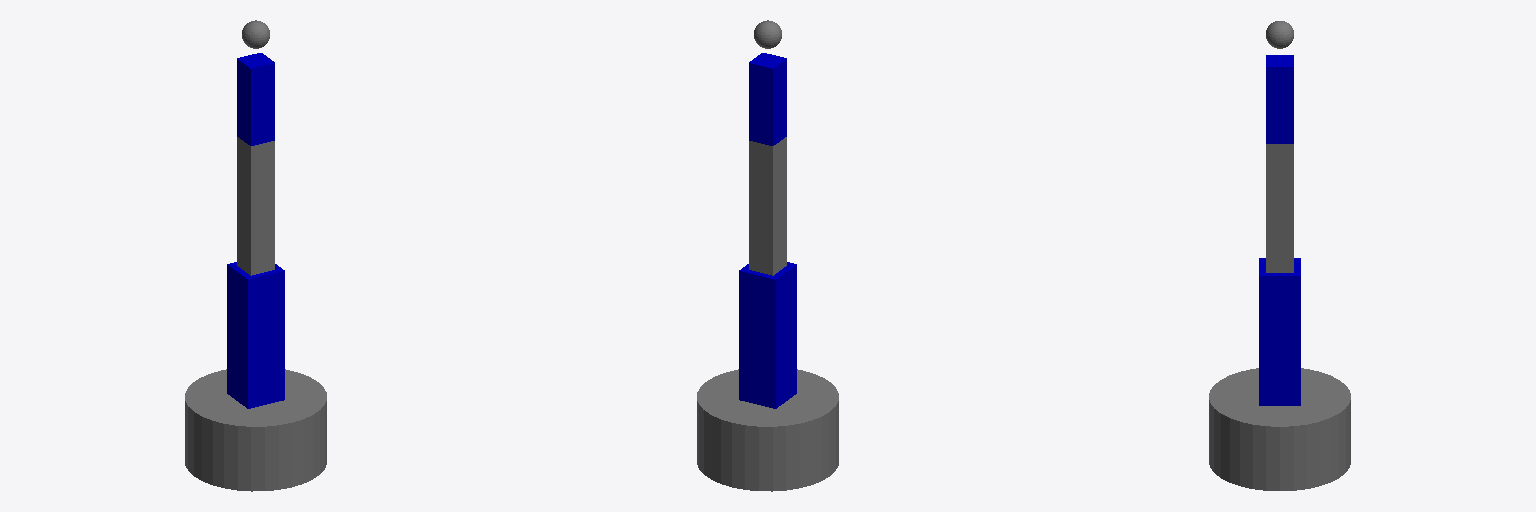
URDF robot description (simple_4dof_arm):
<?xml version="1.0"?>
<robot name="simple_4dof_arm">

  <material name="gray"><color rgba="0.5 0.5 0.5 1"/></material>
  <material name="blue"><color rgba="0 0 0.8 1"/></material>

  <link name="base_link">
    <visual>
      <geometry><cylinder length="0.05" radius="0.05"/></geometry>
      <material name="gray"/>
    </visual>
  </link>

  <joint name="joint_1" type="revolute">
    <parent link="base_link"/>
    <child link="shoulder_link"/>
    <origin xyz="0 0 0.025" rpy="0 0 0"/>
    <axis xyz="0 0 1"/> <limit lower="-1.57" upper="1.57" effort="10" velocity="1"/>
  </joint>

  <link name="shoulder_link">
    <visual>
      <origin xyz="0 0 0.05" rpy="0 0 0"/> <geometry><box size="0.03 0.03 0.1"/></geometry>
      <material name="blue"/>
    </visual>
  </link>

  <joint name="joint_2" type="revolute">
    <parent link="shoulder_link"/>
    <child link="elbow_link"/>
    <origin xyz="0 0 0.1" rpy="0 0 0"/> <axis xyz="0 1 0"/> <limit lower="-1.57" upper="1.57" effort="10" velocity="1"/>
  </joint>

  <link name="elbow_link">
    <visual>
      <origin xyz="0 0 0.05" rpy="0 0 0"/>
      <geometry><box size="0.02 0.02 0.1"/></geometry>
      <material name="gray"/>
    </visual>
  </link>

  <joint name="joint_3" type="revolute">
    <parent link="elbow_link"/>
    <child link="wrist_link"/>
    <origin xyz="0 0 0.1" rpy="0 0 0"/>
    <axis xyz="0 1 0"/>
    <limit lower="-1.57" upper="1.57" effort="10" velocity="1"/>
  </joint>

  <link name="wrist_link">
    <visual>
      <origin xyz="0 0 0.03" rpy="0 0 0"/>
      <geometry><box size="0.02 0.02 0.06"/></geometry>
      <material name="blue"/>
    </visual>
  </link>
  
  <joint name="joint_4" type="revolute">
    <parent link="wrist_link"/>
    <child link="gripper_link"/>
    <origin xyz="0 0 0.06" rpy="0 0 0"/>
    <axis xyz="0 1 0"/>
    <limit lower="-1.57" upper="1.57" effort="10" velocity="1"/>
  </joint>

  <link name="gripper_link">
    <visual>
      <origin xyz="0 0 0.02" rpy="0 0 0"/>
      <geometry><sphere radius="0.01"/></geometry>
      <material name="gray"/>
    </visual>
  </link>

</robot>

--- Render facts (derived) ---
The picture shows the robot from 3 angles, left to right: view 1: azimuth 30°, elevation 25°; view 2: azimuth 150°, elevation 25°; view 3: azimuth 270°, elevation 25°; orthographic projection.
Robot: simple_4dof_arm — 5 links, 4 joints (4 revolute); root link base_link; default pose: every joint at zero.
Links seen in each view (by area): view 1: base_link, shoulder_link, elbow_link, wrist_link, gripper_link; view 2: base_link, shoulder_link, elbow_link, wrist_link, gripper_link; view 3: base_link, shoulder_link, elbow_link, wrist_link, gripper_link.
Boxes of the visible links, box(x1,y1,x2,y2) form: base_link: box(185, 369, 326, 491); shoulder_link: box(227, 262, 284, 408); elbow_link: box(237, 137, 274, 275); wrist_link: box(237, 53, 274, 145); gripper_link: box(242, 20, 269, 48); base_link: box(697, 369, 838, 491); shoulder_link: box(739, 262, 796, 408); elbow_link: box(749, 137, 786, 275); wrist_link: box(749, 53, 786, 145); gripper_link: box(754, 20, 781, 48); base_link: box(1209, 368, 1350, 490); shoulder_link: box(1259, 258, 1300, 405); elbow_link: box(1266, 144, 1293, 272); wrist_link: box(1266, 55, 1293, 143); gripper_link: box(1266, 21, 1293, 48).
Size in the robot's own frame: 0.1 by 0.1 by 0.34 metres.
Geometry: primitives only (box / cylinder / sphere), no mesh files.
